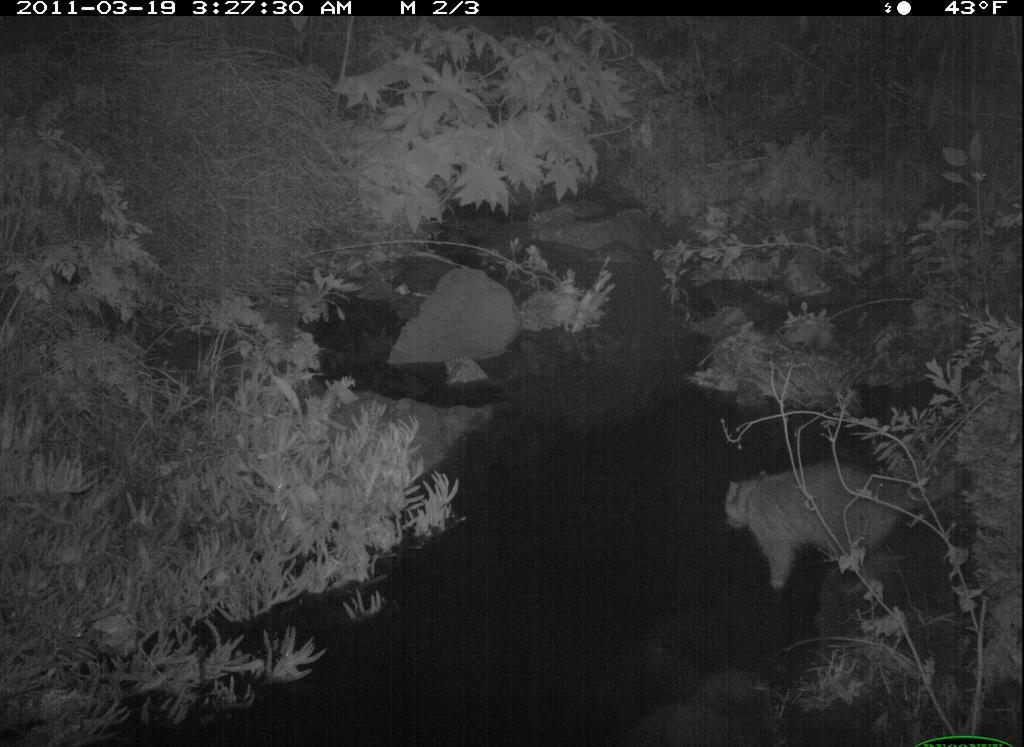raccoon: (716, 447, 958, 602)
